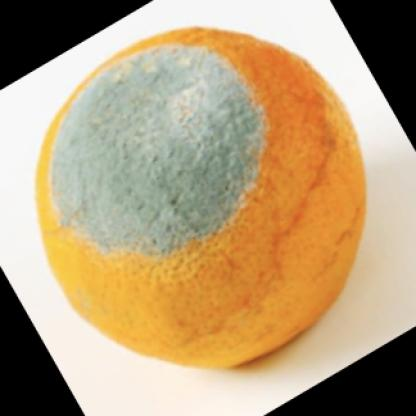rotten: (35, 27, 364, 374)
